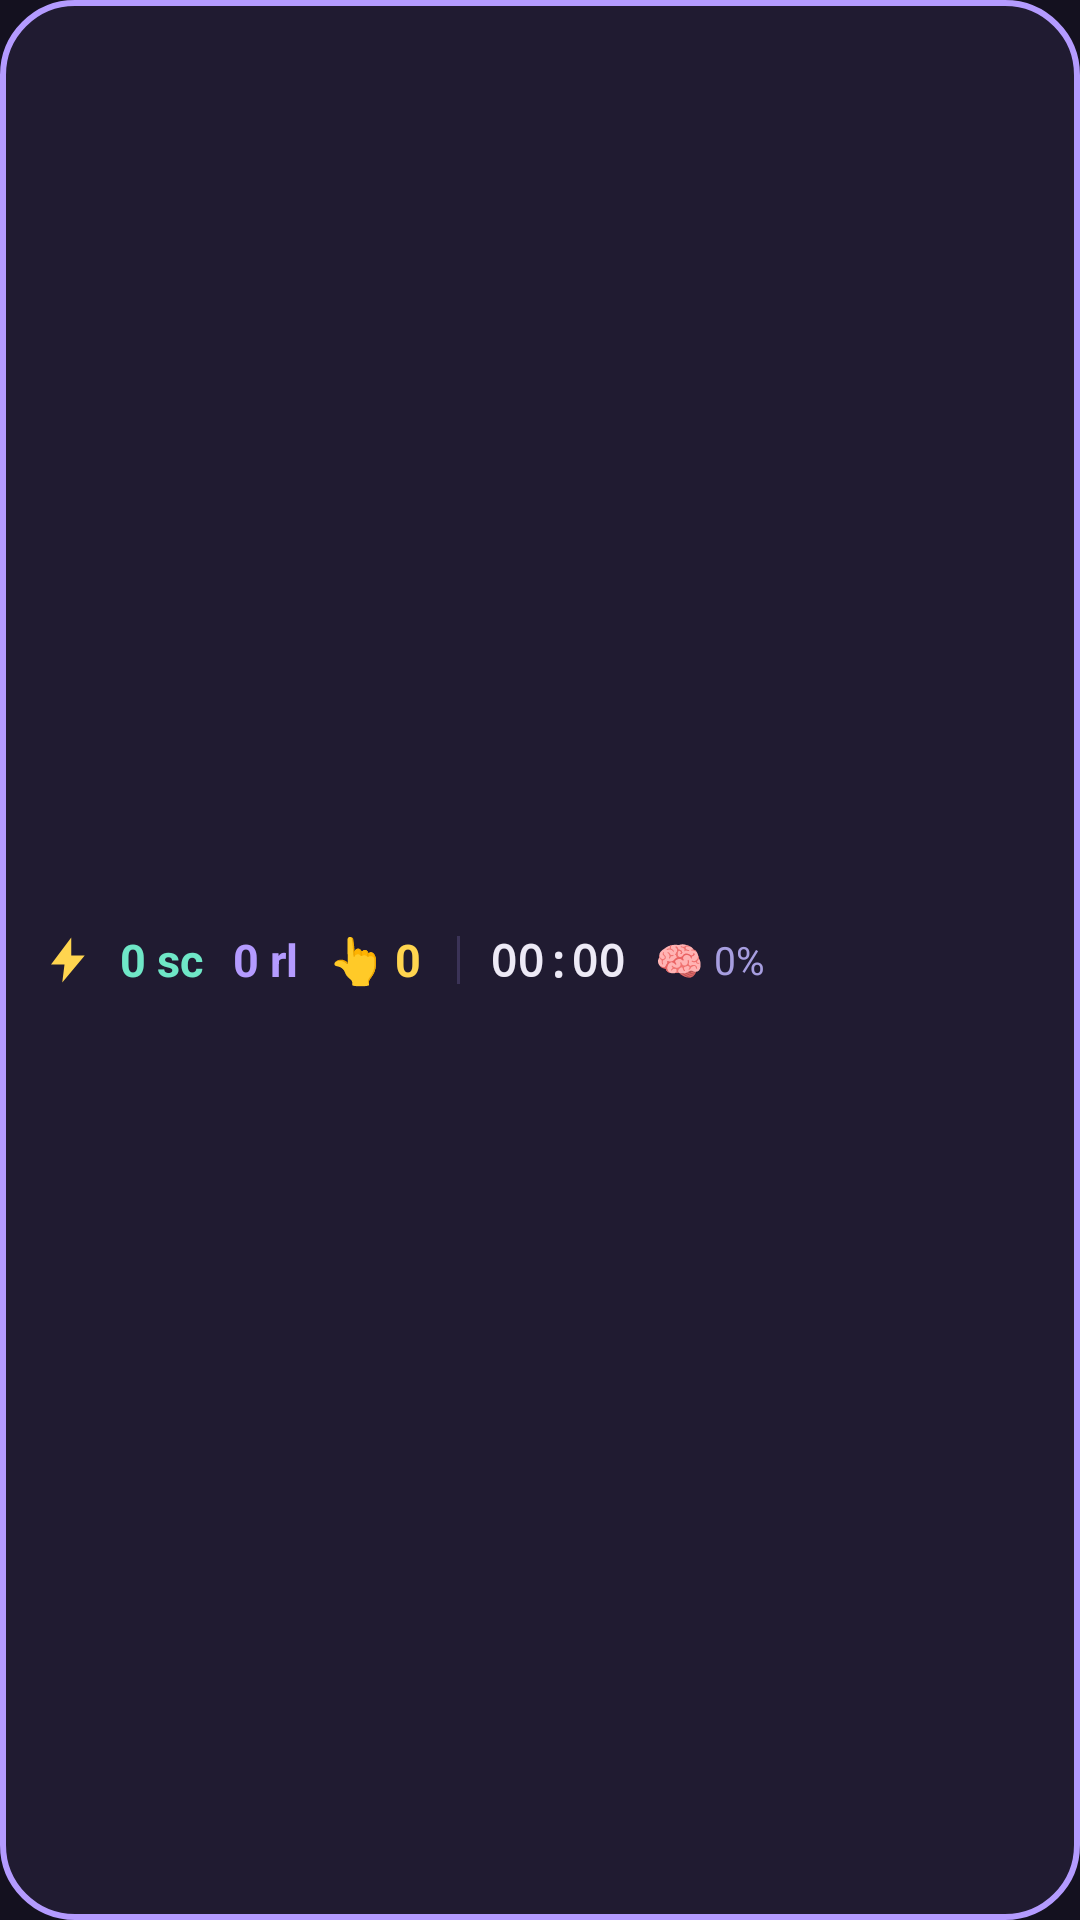

Icons on this 1080w x 1920h Android screen, each with the point to tap as [x,y]:
bolt: [68,960]
